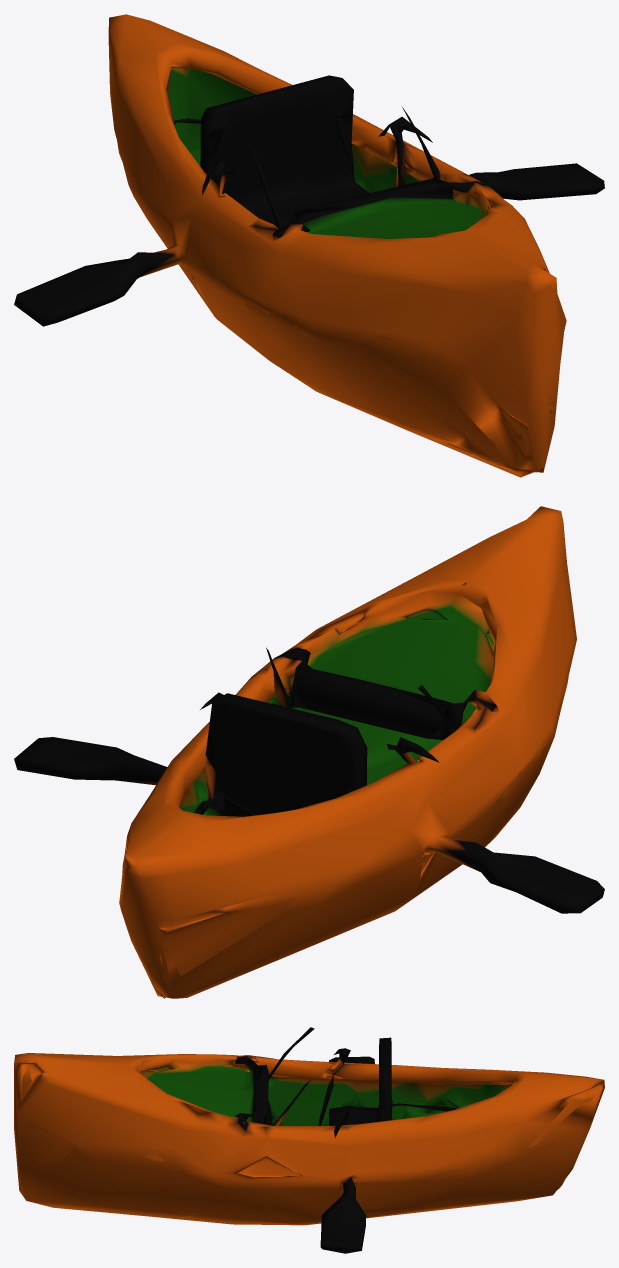
The model's file is gen3d-kayak-lod0.glb.
3 renders of one model, top to bottom at view 1: azimuth 30°, elevation 25°; view 2: azimuth 150°, elevation 25°; view 3: azimuth 270°, elevation 25°, orthographic. The views are drawn at different scales.
Parts seen in each view (by area): view 1: part_0; view 2: part_0; view 3: part_0.
Boxes of the visible parts, bbox=[...] form: part_0: bbox=[14, 14, 604, 477]; part_0: bbox=[14, 506, 604, 998]; part_0: bbox=[14, 1027, 604, 1253].
Size of the model in its own units: 2.67 by 0.9922 by 3.47.
